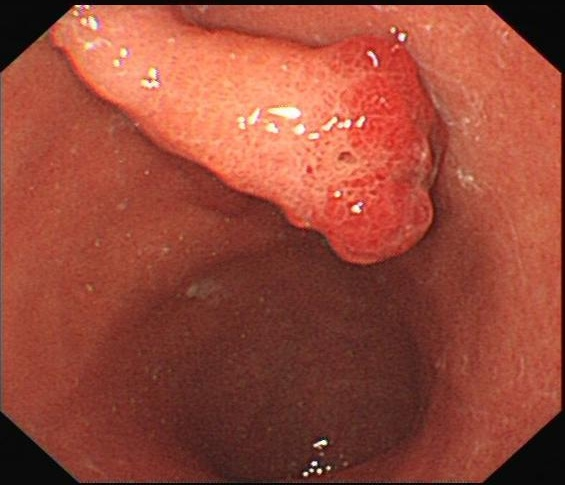Polyp: (6, 5, 498, 269)
